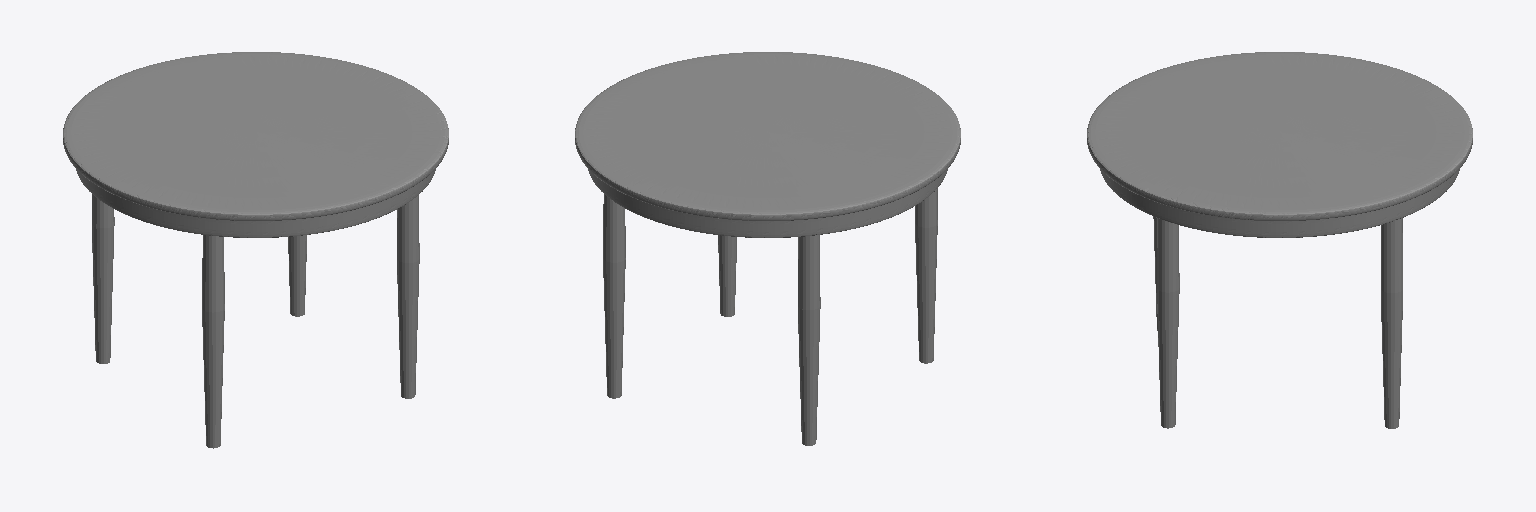
Rendered from mesa.obj.
3 renders of one model, left to right at view 1: azimuth 30°, elevation 25°; view 2: azimuth 150°, elevation 25°; view 3: azimuth 270°, elevation 25°, orthographic.
Parts seen in each view (by area): view 1: Spindle001; view 2: Spindle001; view 3: Spindle001.
Part boxes in pixels (left/top/right/bottom): Spindle001: left=63, top=52, right=448, bottom=448; Spindle001: left=575, top=52, right=960, bottom=445; Spindle001: left=1087, top=52, right=1472, bottom=428.
Bounding box in the file's own units: 38.2 × 27.06 × 38.2.